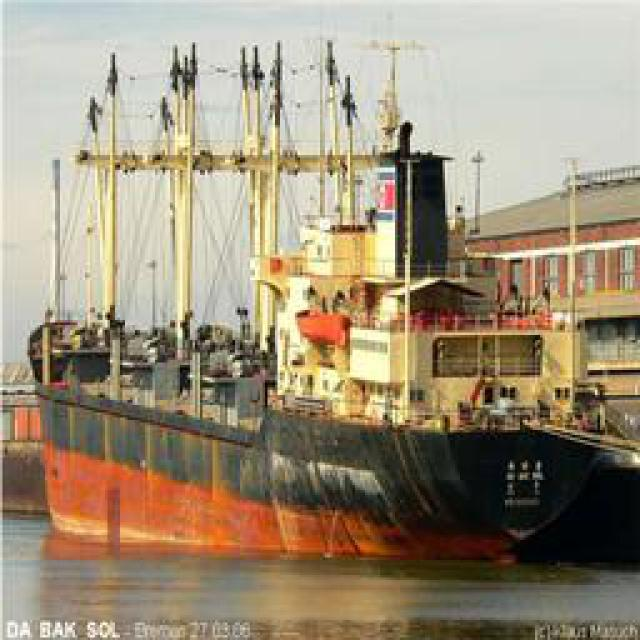Ship: (19, 15, 632, 558)
